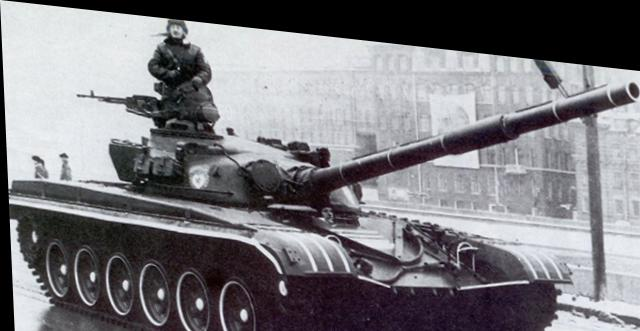other: (148, 13, 212, 78), (55, 149, 69, 183), (29, 152, 44, 180)
tank: (18, 103, 553, 330)
